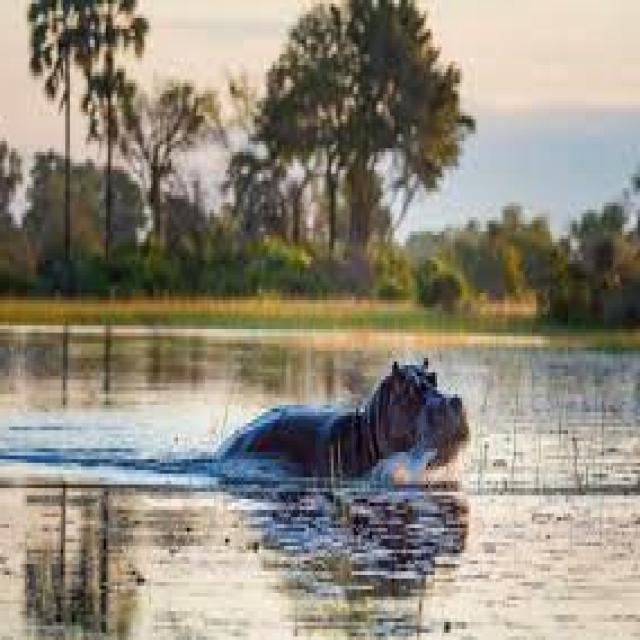hippopotamus: (219, 358, 469, 474)
